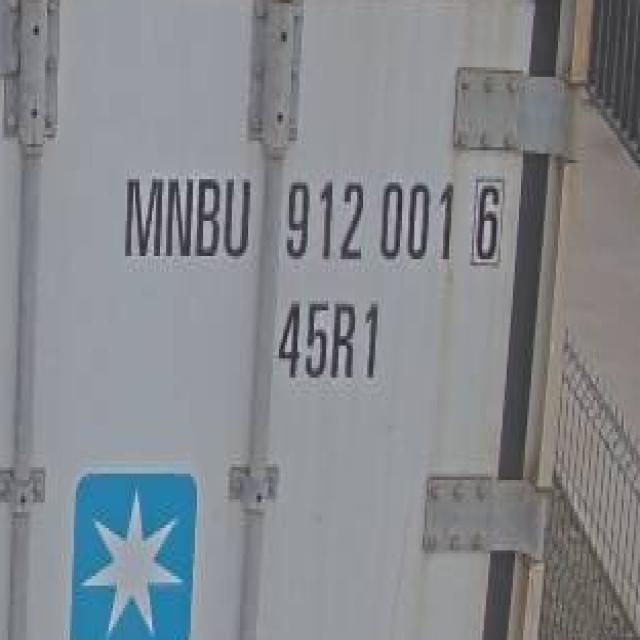dv: (467, 174, 511, 270)
owner: (115, 166, 255, 270)
serial: (278, 166, 458, 268)
size: (272, 291, 387, 388)
